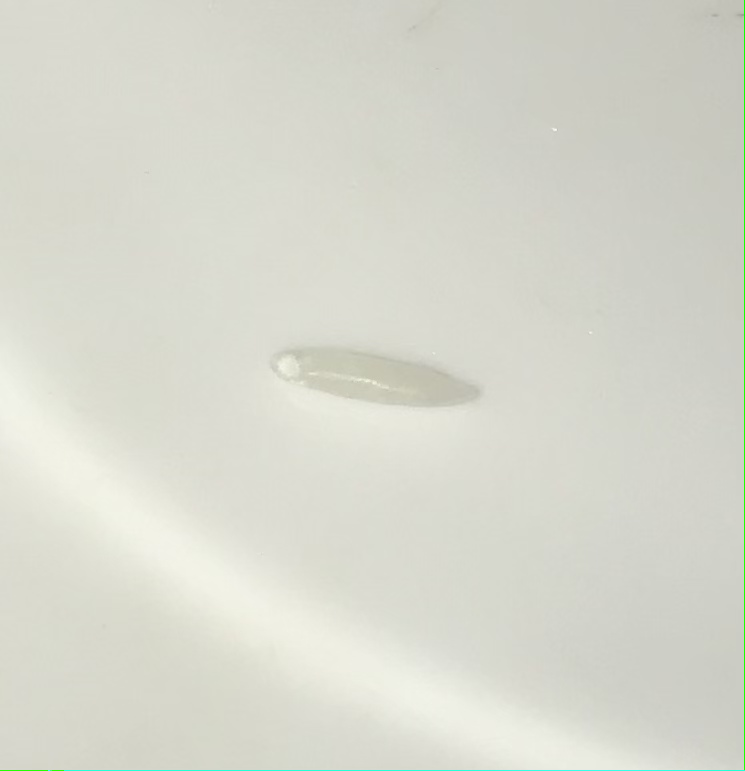Gao Ngoc Troi: (262, 332, 489, 428)
